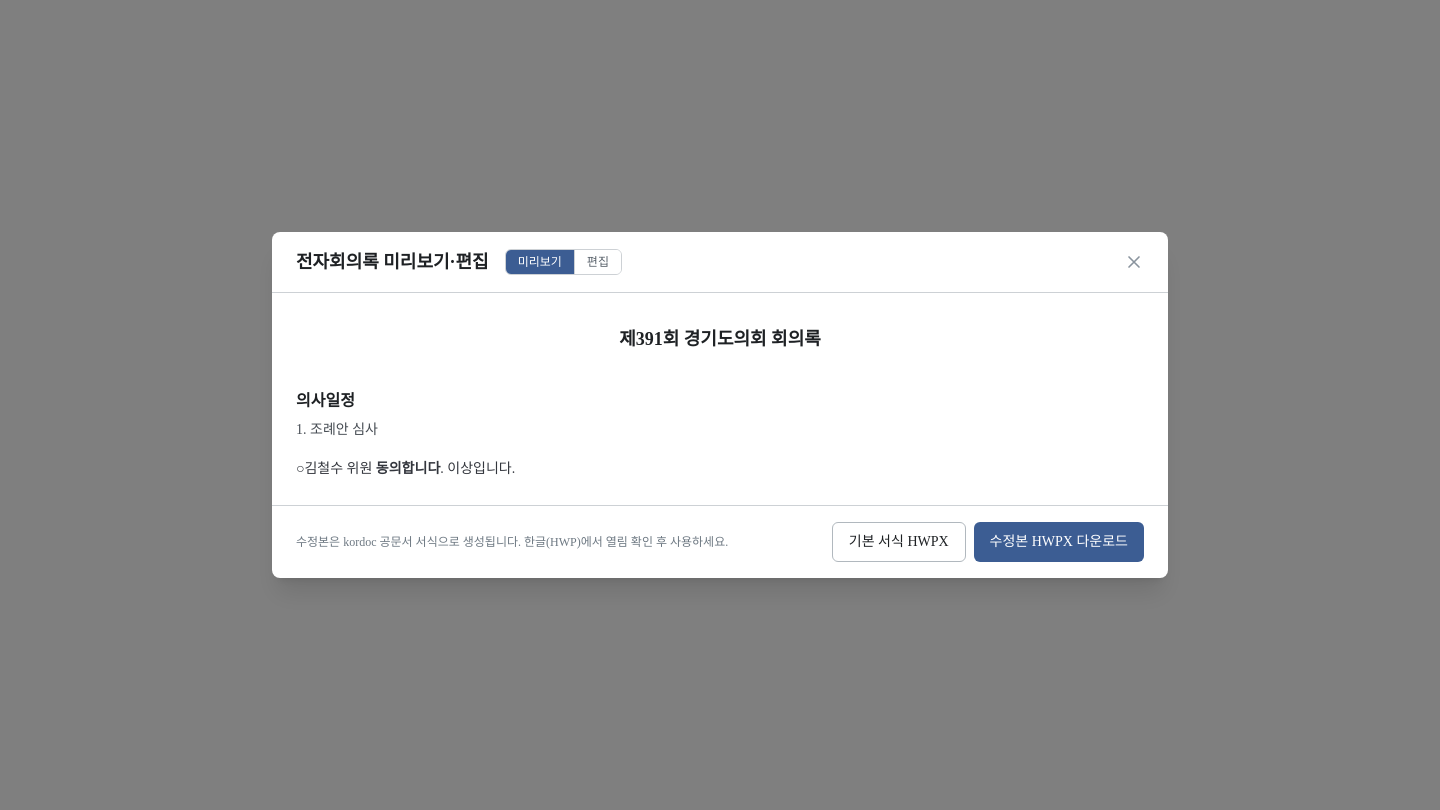
Test: MinutesPreviewModal › 수정본 다운로드 실패 시 에러 문구를 보여준다
Expected: the element with test id "markdown-preview" is shown, left=296, top=329, right=821, bottom=476
Click the button with test id "download-edited-hwpx-button". click: point(1059, 542)
box: left=974, top=522, right=1144, bottom=562
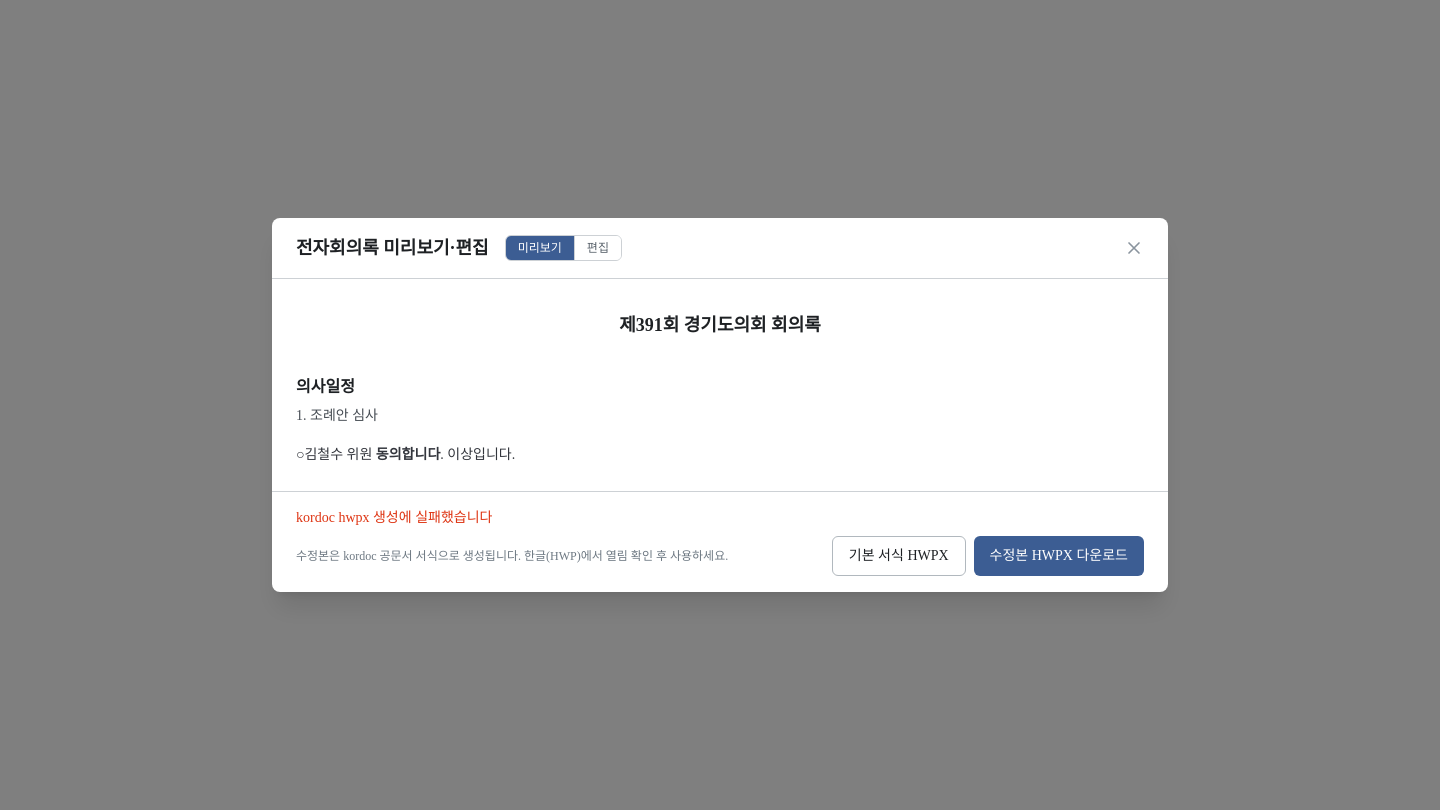
Expected: the message reads "kordoc hwpx 생성에 실패했습니다", left=296, top=510, right=492, bottom=525
